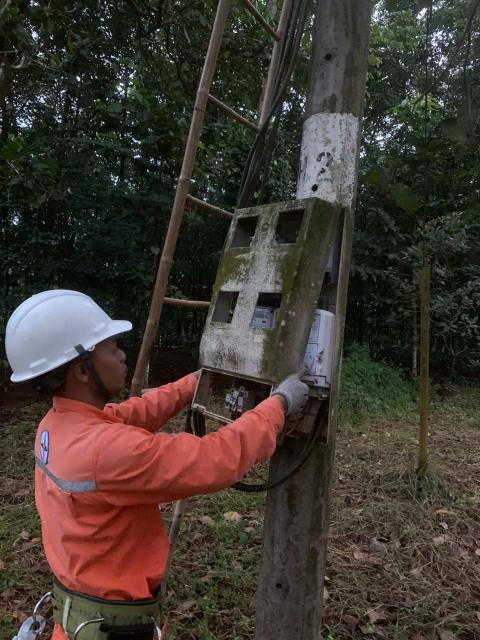gloves: (276, 363, 321, 422)
harness: (22, 561, 183, 640)
helmet: (0, 272, 134, 381)
